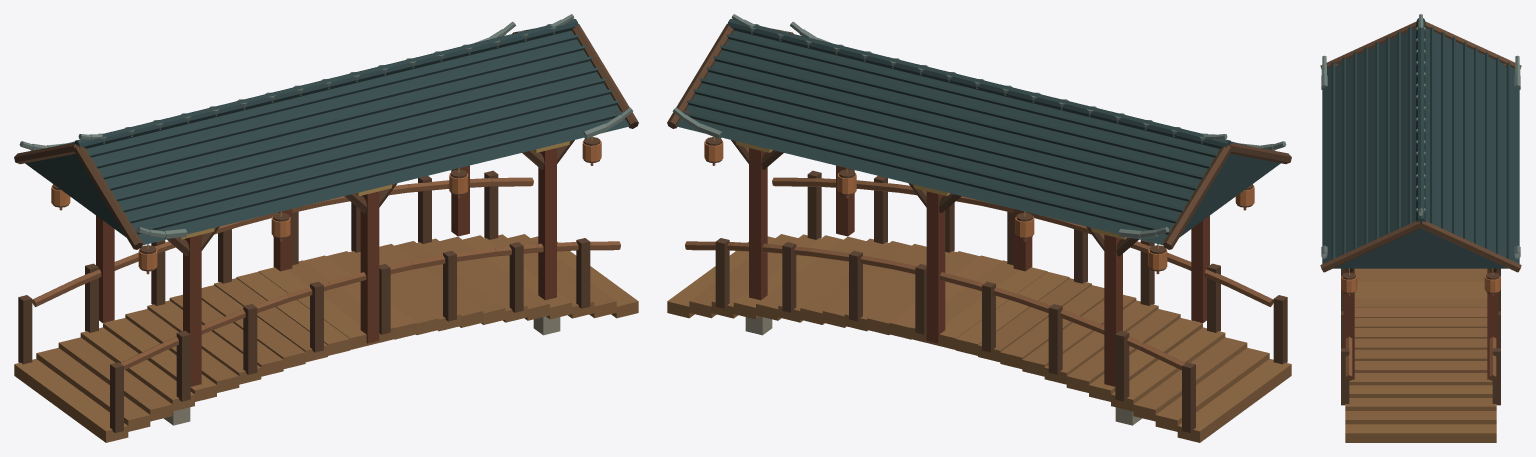
The model's file is build-covered-bridge.glb.
The picture shows the model from 3 angles, left to right: view 1: azimuth 30°, elevation 25°; view 2: azimuth 150°, elevation 25°; view 3: azimuth 270°, elevation 25°; orthographic projection. The views are drawn at different scales.
Visible parts, largest first — view 1: SculptedModel; view 2: SculptedModel; view 3: SculptedModel.
Part boxes in pixels (x1,y1,x2,y2): SculptedModel: (14, 14, 638, 442); SculptedModel: (667, 14, 1291, 442); SculptedModel: (1320, 14, 1521, 442).
Bounding box in the file's own units: 7.2 × 3.55 × 2.86.
